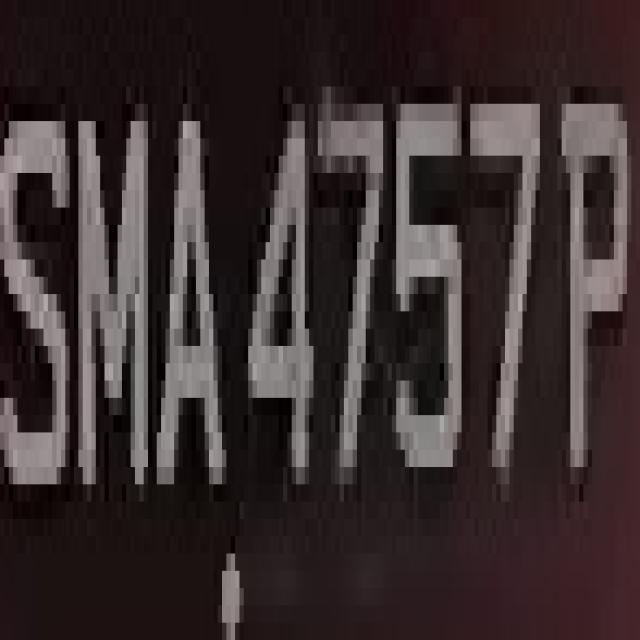4: (231, 86, 322, 519)
5: (392, 69, 470, 467)
7: (462, 52, 548, 519), (300, 52, 379, 502)
A: (148, 69, 235, 536)
M: (70, 52, 152, 588)
P: (553, 35, 636, 536)
S: (5, 0, 78, 554)
